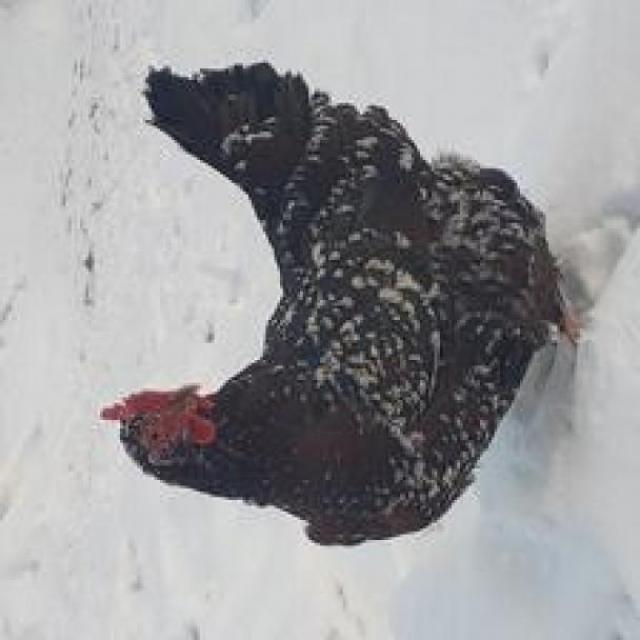Chicken: (97, 53, 612, 581)
